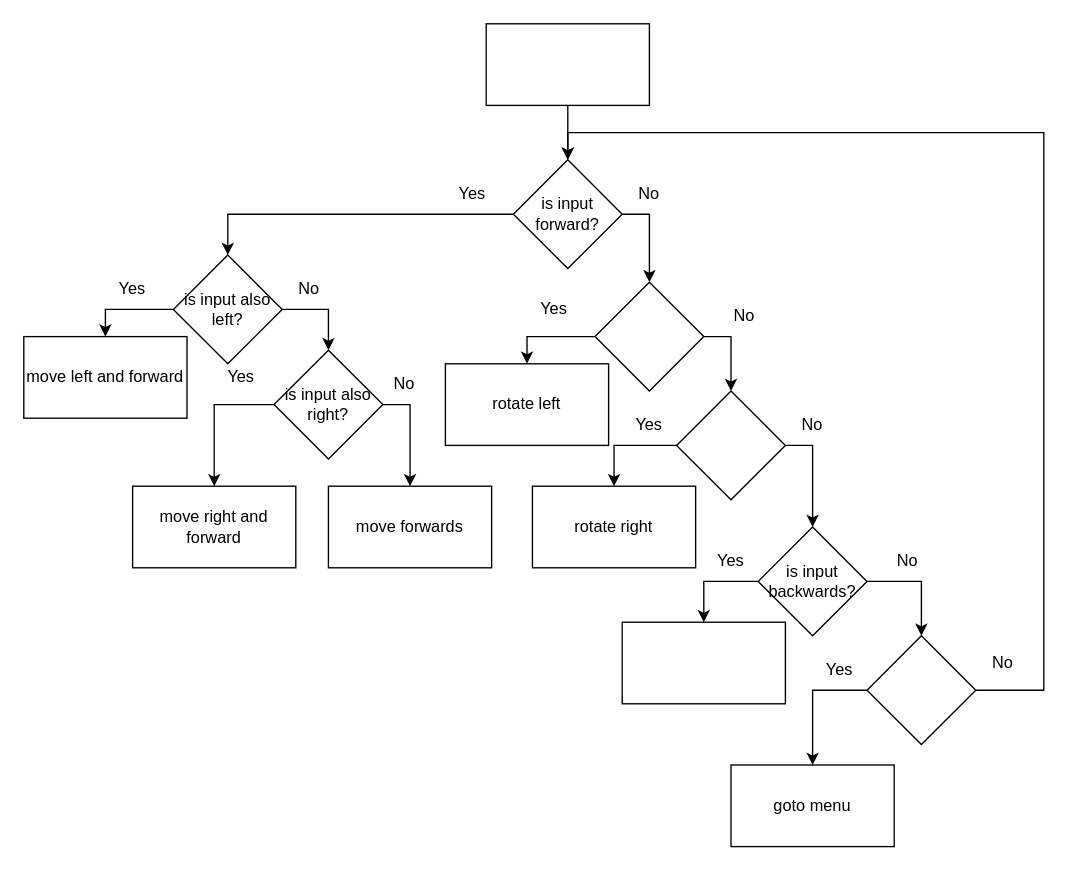
This 1078x870 diagram has some shape labels left out. Here are the shapes that lost their labels. From the top down, the centre of each, then its label:
At pixel 567 63: "input modtaget".
At pixel 649 336: "is input left?".
At pixel 730 445: "is input right?".
At pixel 703 662: "move backwards".
At pixel 921 689: "is input quit?".
